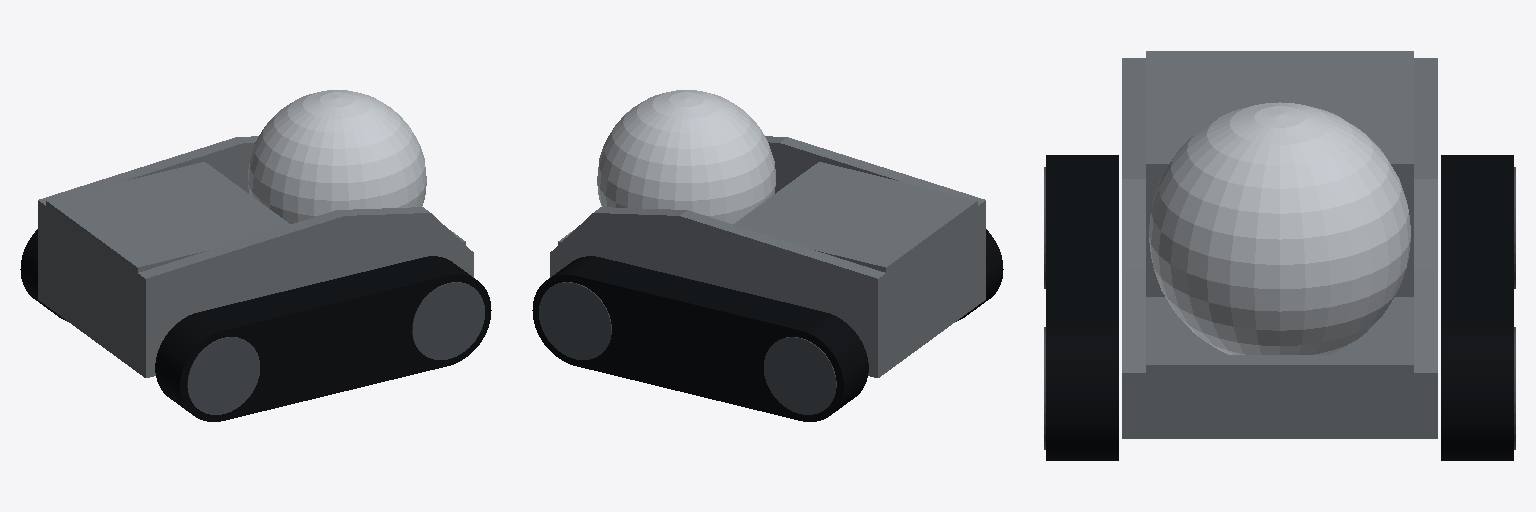
The robot description file, URDF, robot "my_robot":
<?xml version='1.0' encoding='utf-8'?>
<robot name="my_robot">
    <!--SI units; +X forward, +Y left, +Z up. Geometry prototype, not a belt-drive simulation.-->
    <material name="body_gray">
        <color rgba=".48 .50 .52 1" />
    </material>
    <material name="head_gray">
        <color rgba=".78 .80 .82 1" />
    </material>
    <material name="track_dark">
        <color rgba=".09 .10 .11 1" />
    </material>
    <material name="wheel_gray">
        <color rgba=".34 .36 .38 1" />
    </material>
    <link name="base_footprint" />
    <link name="base_link">
        <visual name="floor">
            <origin xyz="0 0 0.024" rpy="0 0 0" />
            <geometry>
                <box size="0.19 0.108 0.008" />
            </geometry>
            <material name="body_gray" />
        </visual>
        <collision name="floor">
            <origin xyz="0 0 0.024" rpy="0 0 0" />
            <geometry>
                <box size="0.19 0.108 0.008" />
            </geometry>
        </collision>
        <visual name="rear_bay">
            <origin xyz="-0.049 0 0.053" rpy="0 0 0" />
            <geometry>
                <box size="0.092 0.092 0.05" />
            </geometry>
            <material name="body_gray" />
        </visual>
        <collision name="rear_bay">
            <origin xyz="-0.049 0 0.053" rpy="0 0 0" />
            <geometry>
                <box size="0.092 0.092 0.05" />
            </geometry>
        </collision>
        <visual name="front_lip">
            <origin xyz="0.091 0 0.038" rpy="0 0 0" />
            <geometry>
                <box size="0.008 0.092 0.02" />
            </geometry>
            <material name="body_gray" />
        </visual>
        <collision name="front_lip">
            <origin xyz="0.091 0 0.038" rpy="0 0 0" />
            <geometry>
                <box size="0.008 0.092 0.02" />
            </geometry>
        </collision>
        <visual name="left_cheek">
            <origin xyz="0 0.05 0" rpy="0 0 0" />
            <geometry>
                <mesh filename="package://robot_description/meshes/body_cheek.stl" />
            </geometry>
            <material name="body_gray" />
        </visual>
        <collision name="left_cheek_lower">
            <origin xyz="0 0.05 0.035" rpy="0 0 0" />
            <geometry>
                <box size=".190 .008 .020" />
            </geometry>
        </collision>
        <collision name="left_cheek_upper">
            <origin xyz="-0.02 0.05 0.0585" rpy="0 0 0" />
            <geometry>
                <box size=".150 .008 .027" />
            </geometry>
        </collision>
        <visual name="right_cheek">
            <origin xyz="0 -0.05 0" rpy="0 0 0" />
            <geometry>
                <mesh filename="package://robot_description/meshes/body_cheek.stl" />
            </geometry>
            <material name="body_gray" />
        </visual>
        <collision name="right_cheek_lower">
            <origin xyz="0 -0.05 0.035" rpy="0 0 0" />
            <geometry>
                <box size=".190 .008 .020" />
            </geometry>
        </collision>
        <collision name="right_cheek_upper">
            <origin xyz="-0.02 -0.05 0.0585" rpy="0 0 0" />
            <geometry>
                <box size=".150 .008 .027" />
            </geometry>
        </collision>
        <inertial>
            <origin xyz="-0.027423529411764708 0.0 0.04587058823529412" />
            <mass value="0.85" />
            <inertia ixx="0.00104297243137" ixy="0" ixz="0.000220786588235" iyy="0.00243429996078" iyz="0" izz="0.00297439419608" />
        </inertial>
    </link>
    <joint name="base_footprint_joint" type="fixed">
        <parent link="base_footprint" />
        <child link="base_link" />
        <origin xyz="0 0 0" rpy="0 0 0" />
    </joint>
    <link name="head_link">
        <visual name="head_sphere">
            <origin xyz="0 0 0" rpy="0 0 0" />
            <geometry>
                <sphere radius=".045" />
            </geometry>
            <material name="head_gray" />
        </visual>
        <collision name="head_sphere">
            <origin xyz="0 0 0" rpy="0 0 0" />
            <geometry>
                <sphere radius=".045" />
            </geometry>
        </collision>
        <inertial>
            <origin xyz="0 0 0" />
            <mass value="0.2" />
            <inertia ixx="0.000162" ixy="0" ixz="0" iyy="0.000162" iyz="0" izz="0.000162" />
        </inertial>
    </link>
    <joint name="head_pitch_joint" type="revolute">
        <parent link="base_link" />
        <child link="head_link" />
        <origin xyz="0.047 0 0.075" rpy="0 0 0" />
        <axis xyz="0 1 0" />
        <limit lower="-.610865" upper=".610865" effort="0.5" velocity="1.0" />
        <dynamics damping="0.02" friction="0.001" />
    </joint>
    <link name="left_track_link">
        <visual name="left_belt_envelope">
            <origin xyz="0 0 0" rpy="0 0 0" />
            <geometry>
                <mesh filename="package://robot_description/meshes/track_envelope.stl" />
            </geometry>
            <material name="track_dark" />
        </visual>
        <collision name="left_contact">
            <origin xyz="0 0 0" rpy="0 0 0" />
            <geometry>
                <box size=".130 .025 .050" />
            </geometry>
        </collision>
        <collision name="front_round_end">
            <origin xyz="0.065 0 0" rpy="1.5707963267948966 0 0" />
            <geometry>
                <cylinder radius=".025" length=".025" />
            </geometry>
        </collision>
        <visual name="front_wheel_visual">
            <origin xyz="0.065 0.0126 0" rpy="1.5707963267948966 0 0" />
            <geometry>
                <cylinder radius=".021" length=".001" />
            </geometry>
            <material name="wheel_gray" />
        </visual>
        <collision name="rear_round_end">
            <origin xyz="-0.065 0 0" rpy="1.5707963267948966 0 0" />
            <geometry>
                <cylinder radius=".025" length=".025" />
            </geometry>
        </collision>
        <visual name="rear_wheel_visual">
            <origin xyz="-0.065 0.0126 0" rpy="1.5707963267948966 0 0" />
            <geometry>
                <cylinder radius=".021" length=".001" />
            </geometry>
            <material name="wheel_gray" />
        </visual>
        <inertial>
            <origin xyz="0 0 0" />
            <mass value="0.15" />
            <inertia ixx="3.90625e-05" ixy="0" ixz="0" iyy="0.00043625" iyz="0" izz="0.0004128125" />
        </inertial>
    </link>
    <joint name="left_track_joint" type="fixed">
        <parent link="base_link" />
        <child link="left_track_link" />
        <origin xyz="0 0.0675 0.025" rpy="0 0 0" />
    </joint>
    <link name="right_track_link">
        <visual name="right_belt_envelope">
            <origin xyz="0 0 0" rpy="0 0 0" />
            <geometry>
                <mesh filename="package://robot_description/meshes/track_envelope.stl" />
            </geometry>
            <material name="track_dark" />
        </visual>
        <collision name="right_contact">
            <origin xyz="0 0 0" rpy="0 0 0" />
            <geometry>
                <box size=".130 .025 .050" />
            </geometry>
        </collision>
        <collision name="front_round_end">
            <origin xyz="0.065 0 0" rpy="1.5707963267948966 0 0" />
            <geometry>
                <cylinder radius=".025" length=".025" />
            </geometry>
        </collision>
        <visual name="front_wheel_visual">
            <origin xyz="0.065 -0.0126 0" rpy="1.5707963267948966 0 0" />
            <geometry>
                <cylinder radius=".021" length=".001" />
            </geometry>
            <material name="wheel_gray" />
        </visual>
        <collision name="rear_round_end">
            <origin xyz="-0.065 0 0" rpy="1.5707963267948966 0 0" />
            <geometry>
                <cylinder radius=".025" length=".025" />
            </geometry>
        </collision>
        <visual name="rear_wheel_visual">
            <origin xyz="-0.065 -0.0126 0" rpy="1.5707963267948966 0 0" />
            <geometry>
                <cylinder radius=".021" length=".001" />
            </geometry>
            <material name="wheel_gray" />
        </visual>
        <inertial>
            <origin xyz="0 0 0" />
            <mass value="0.15" />
            <inertia ixx="3.90625e-05" ixy="0" ixz="0" iyy="0.00043625" iyz="0" izz="0.0004128125" />
        </inertial>
    </link>
    <joint name="right_track_joint" type="fixed">
        <parent link="base_link" />
        <child link="right_track_link" />
        <origin xyz="0 -0.0675 0.025" rpy="0 0 0" />
    </joint>
    <!--Head state only: fixed track envelopes have no belt/roller DOFs yet.-->
    <gazebo>
        <plugin filename="gz-sim-joint-state-publisher-system" name="gz::sim::systems::JointStatePublisher">
            <topic>/robot/joint_states</topic>
            <joint_name>head_pitch_joint</joint_name>
        </plugin>
    </gazebo>
</robot>

--- Facts derived from the render (not from the file) ---
Views: 3 orthographic renders of the robot side by side, from view 1: azimuth 30°, elevation 25°; view 2: azimuth 150°, elevation 25°; view 3: azimuth 270°, elevation 25°.
Robot: my_robot — 5 links, 4 joints (1 revolute, 3 fixed); root link base_footprint; default pose: every joint at zero.
Links seen in each view (by area): view 1: base_link, right_track_link, head_link, left_track_link; view 2: base_link, left_track_link, head_link, right_track_link; view 3: base_link, head_link, left_track_link, right_track_link.
Boxes of the visible links, x1,y1,x2,y2 form: base_link: (38,136,473,377); right_track_link: (155,256,491,421); head_link: (248,90,426,223); left_track_link: (20,229,67,321); base_link: (550,136,985,377); left_track_link: (532,256,868,421); head_link: (597,90,775,223); right_track_link: (956,229,1003,321); base_link: (1122,51,1437,438); head_link: (1149,102,1410,354); left_track_link: (1441,155,1515,460); right_track_link: (1044,155,1118,460).
Bounding box of the posed robot: 0.19 × 0.1612 × 0.12 m (x, y, z).
4 mesh visuals loaded from 2 distinct referenced files (2 ASCII STL).
